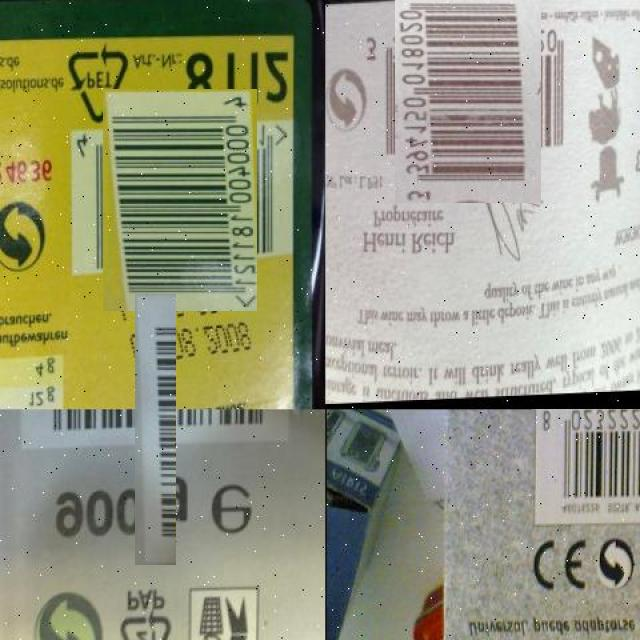Barcode: (86, 106, 274, 295), (379, 9, 557, 187), (77, 352, 234, 508), (532, 409, 640, 534)
